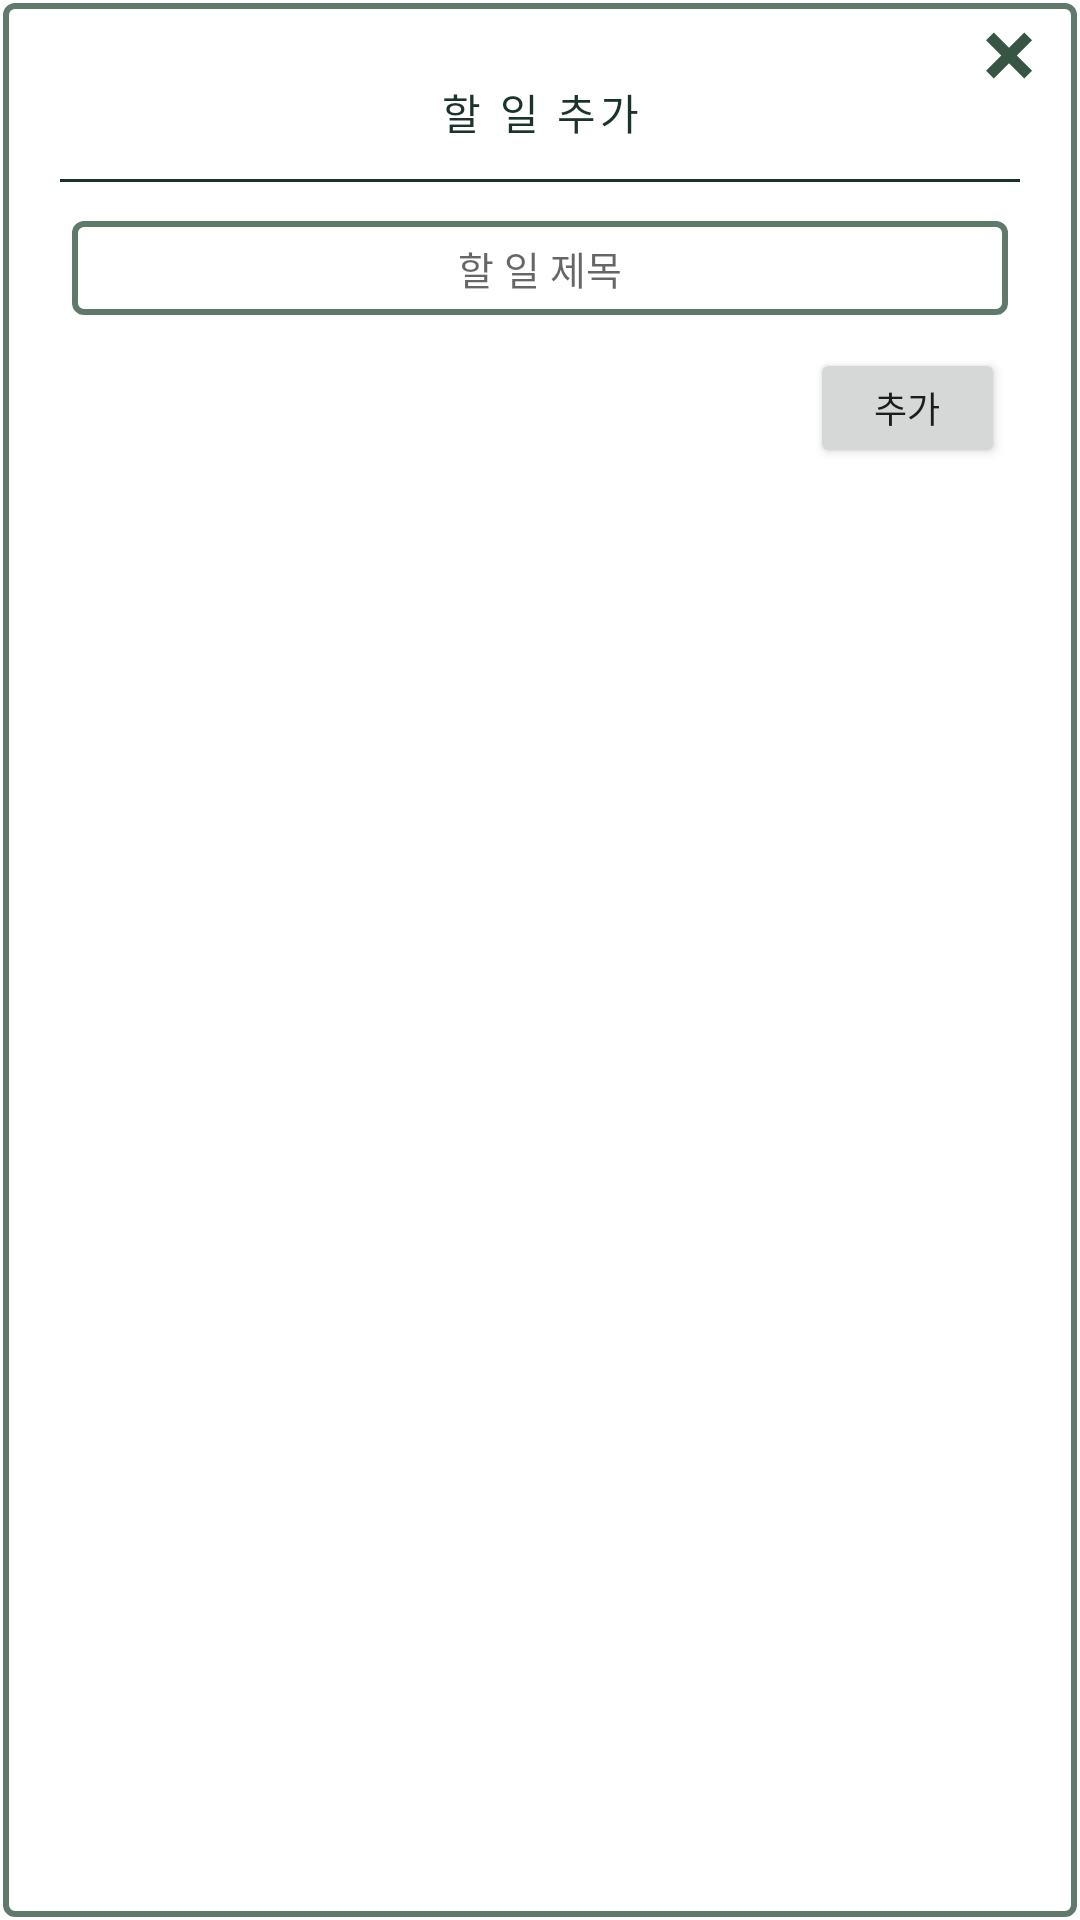

Icon click points for this 1080 × 1920 phone screenshot, format (x,y):
cancel: (1009,55)
